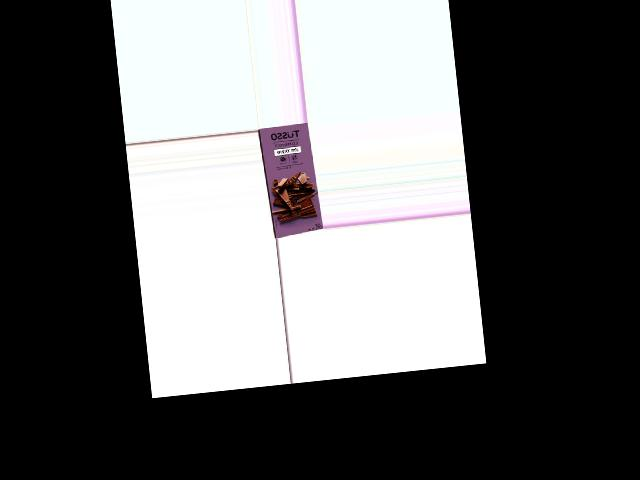chocolate: (261, 124, 320, 238)
